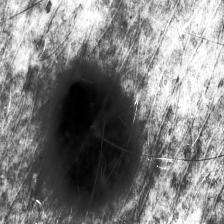Benign Marking or Mole: (51, 73, 134, 209)
